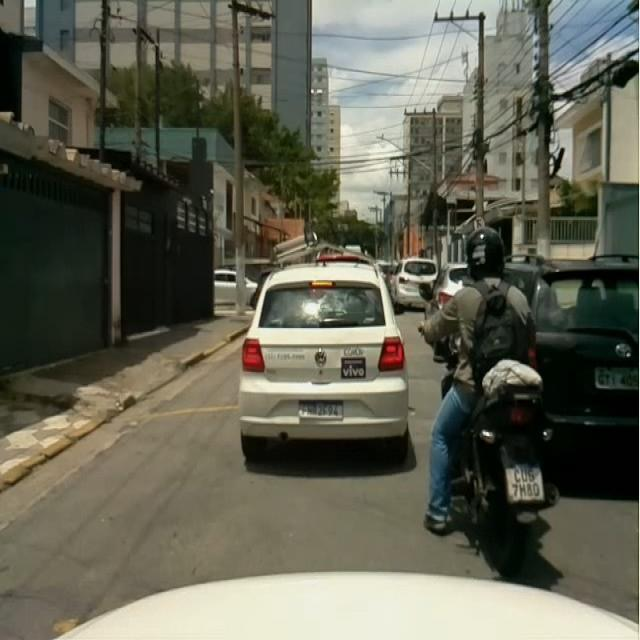car: (239, 266, 409, 460), (390, 258, 438, 313)
motorcycle: (454, 360, 559, 578)
motorcyclist: (419, 226, 532, 536)
